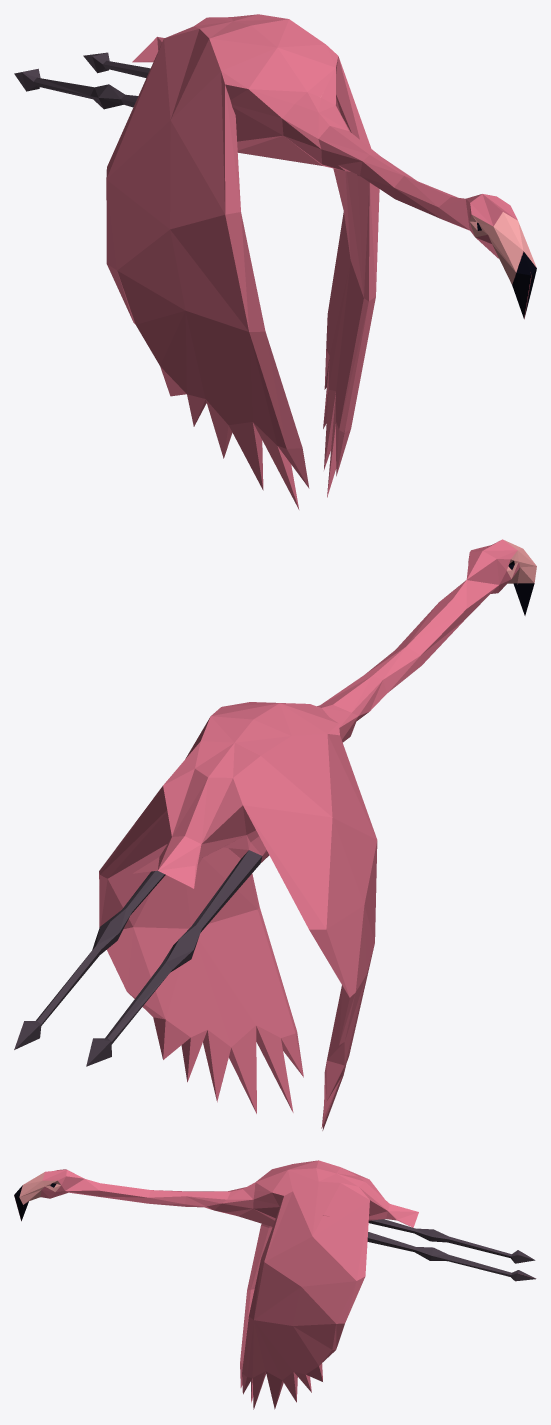
The model's file is flamingo.glb.
3 views of the same model, one above another, from view 1: azimuth 30°, elevation 25°; view 2: azimuth 150°, elevation 25°; view 3: azimuth 270°, elevation 25° (orthographic). The views are drawn at different scales.
Parts seen in each view (by area): view 1: Mesh_0; view 2: Mesh_0; view 3: Mesh_0.
Part boxes in pixels (x1=…): Mesh_0: x1=14, y1=14, x2=536, y2=509; Mesh_0: x1=14, y1=539, x2=536, y2=1130; Mesh_0: x1=14, y1=1160, x2=536, y2=1409.
Size of the model in its own units: 52.2 by 89.1 by 177.
1 material, 1 textured.
